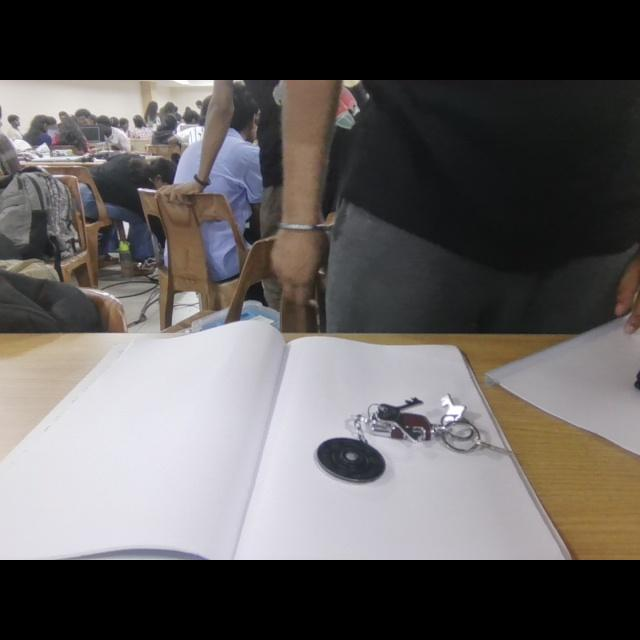keys: (315, 394, 512, 483)
